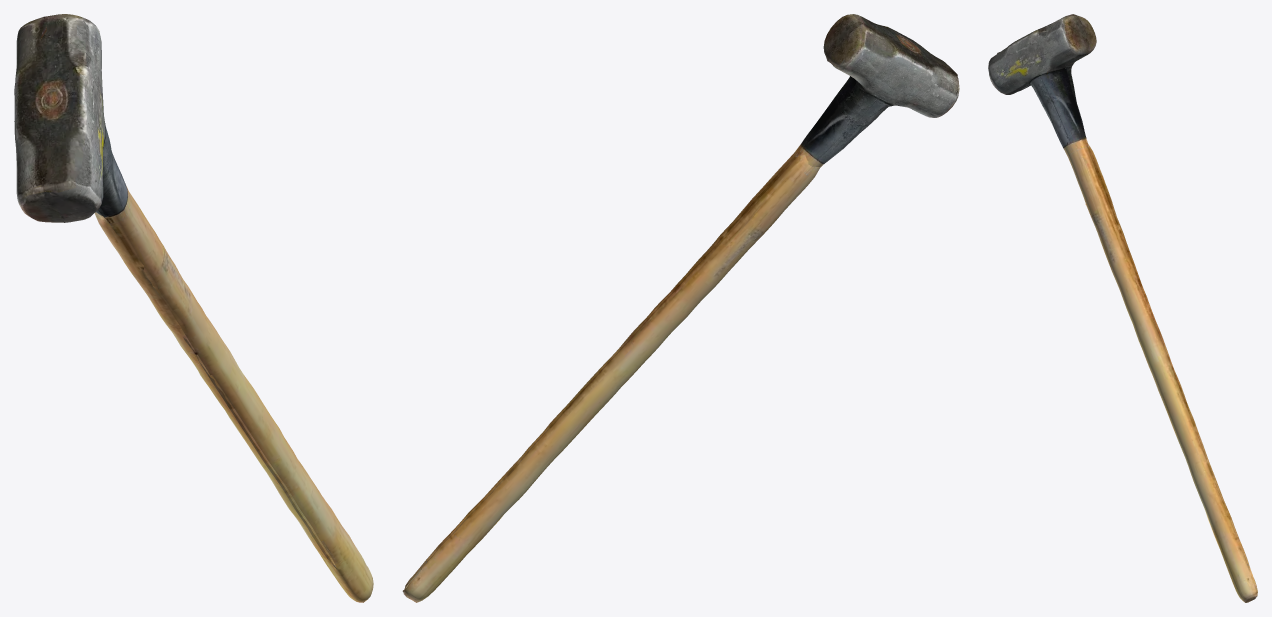
Rendered from tool-sledgehammer.glb.
3 views of the same model, side by side, from view 1: azimuth 30°, elevation 25°; view 2: azimuth 150°, elevation 25°; view 3: azimuth 270°, elevation 25° (orthographic). The views are drawn at different scales.
Parts seen in each view (by area): view 1: Object_2; view 2: Object_2; view 3: Object_2.
Boxes of the visible parts, <box> form: Object_2: <box>14,14,373,602</box>; Object_2: <box>402,14,959,602</box>; Object_2: <box>988,14,1257,602</box>.
Size of the model in its own units: 4.83 by 6.68 by 3.55.
1 material, 1 textured.
